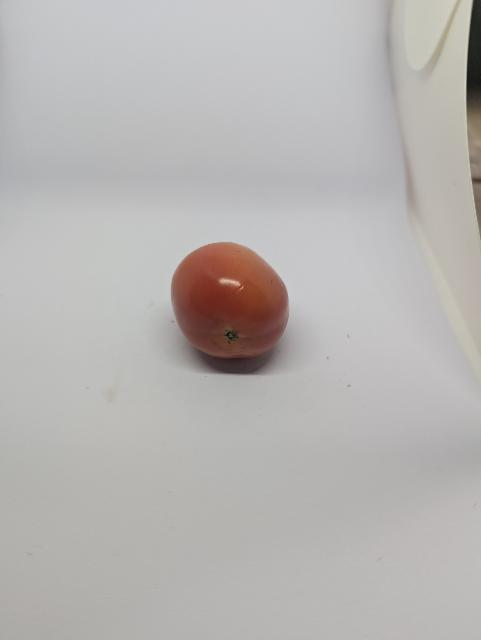red: (154, 238, 309, 367)
